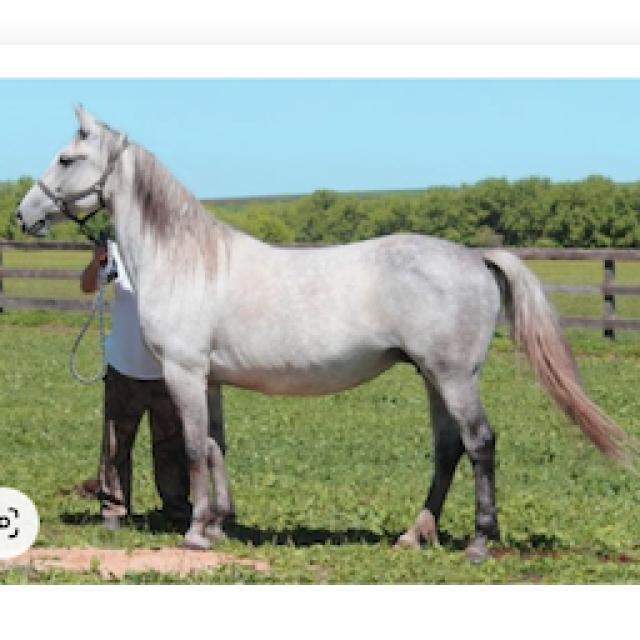Horse: (10, 98, 640, 562)
